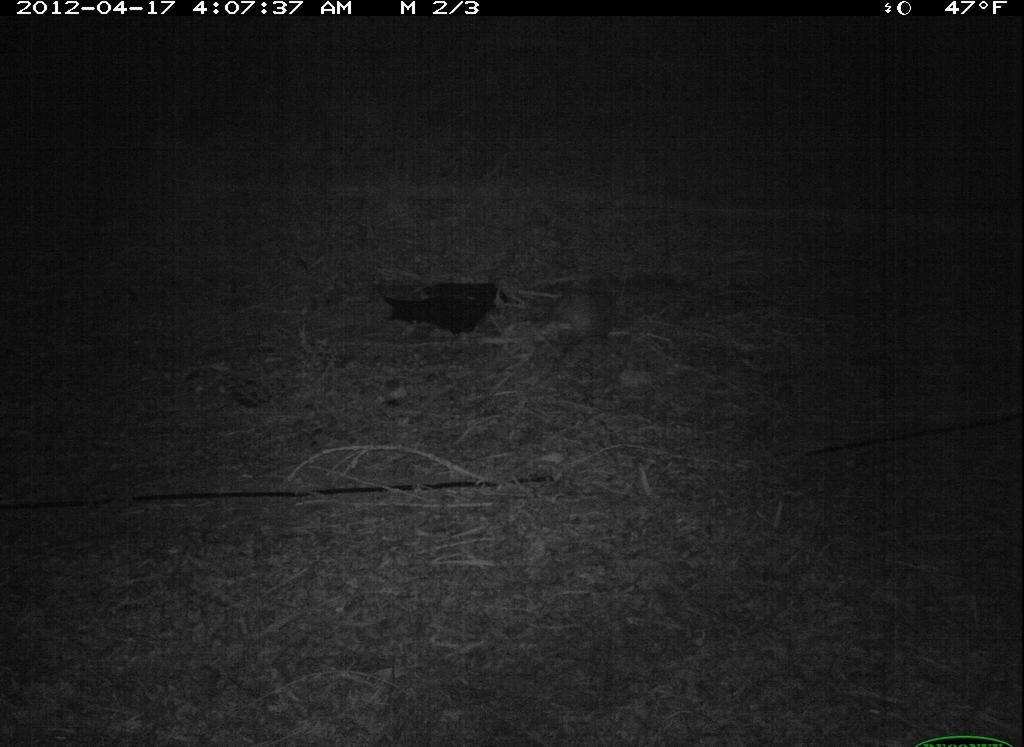opossum: (506, 264, 650, 374)
